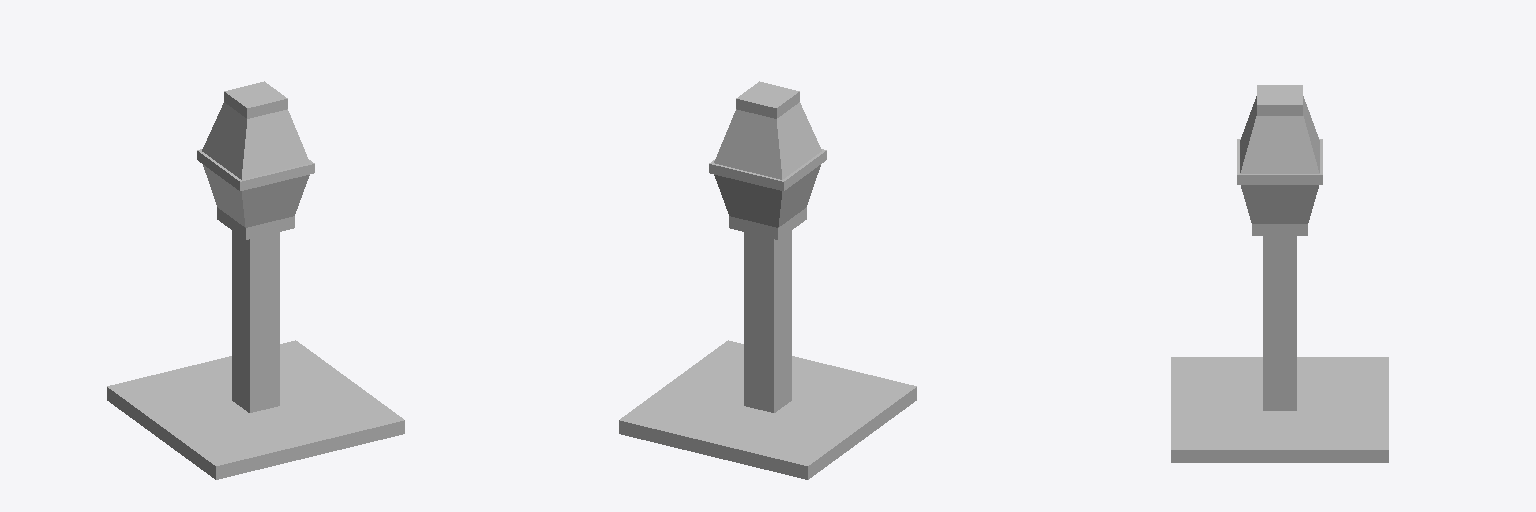
File: light.obj
The picture shows the model from 3 angles: view 1: azimuth 30°, elevation 25°; view 2: azimuth 150°, elevation 25°; view 3: azimuth 270°, elevation 25°; orthographic projection.
Parts seen in each view (by area): view 1: Light_01_Plane.029; view 2: Light_01_Plane.029; view 3: Light_01_Plane.029.
Part boxes in pixels (left/top/right/bottom): Light_01_Plane.029: left=107, top=81, right=404, bottom=479; Light_01_Plane.029: left=619, top=81, right=916, bottom=479; Light_01_Plane.029: left=1171, top=85, right=1388, bottom=462.
Bounding box in the file's own units: 1.09 × 1.76 × 1.09.